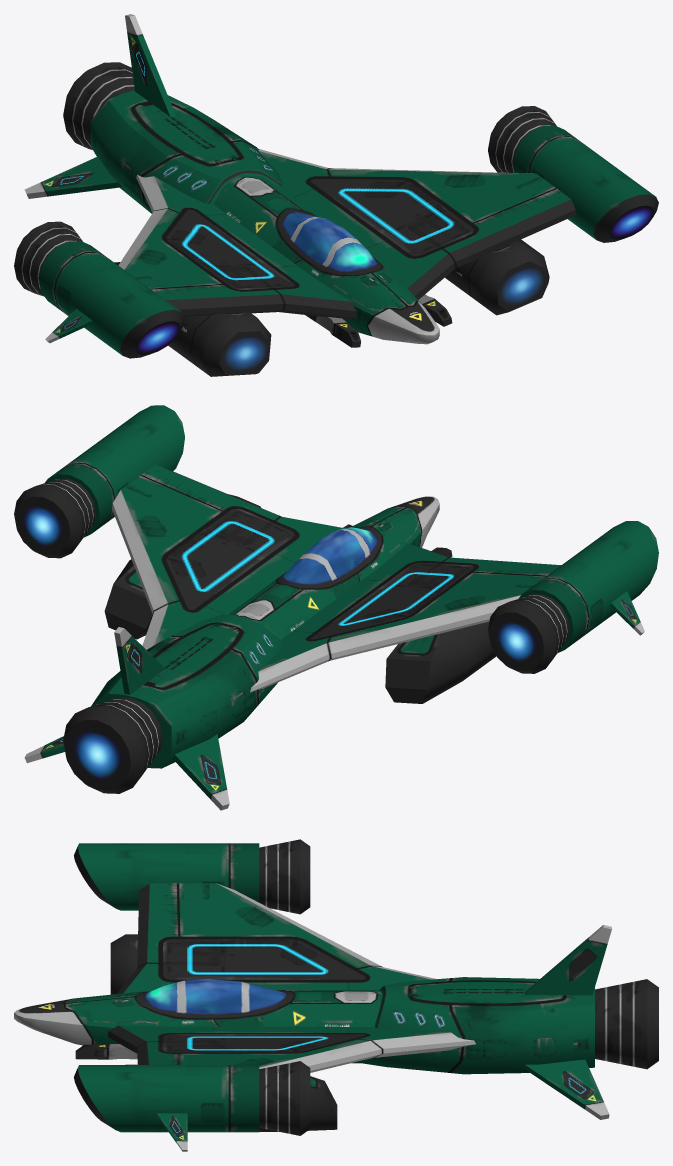
The model's file is GreenBird.fbx.
3 views of the same model, one above another, from view 1: azimuth 30°, elevation 25°; view 2: azimuth 150°, elevation 25°; view 3: azimuth 270°, elevation 25° (orthographic). The views are drawn at different scales.
Visible parts, largest first — view 1: StarSparrow05; view 2: StarSparrow05; view 3: StarSparrow05.
Boxes of the visible parts, bbox=[...] form: StarSparrow05: bbox=[14, 14, 658, 376]; StarSparrow05: bbox=[14, 405, 658, 810]; StarSparrow05: bbox=[14, 839, 658, 1151].
Bounding box in the file's own units: 1112 × 278 × 1085.
1 material, 1 textured.
